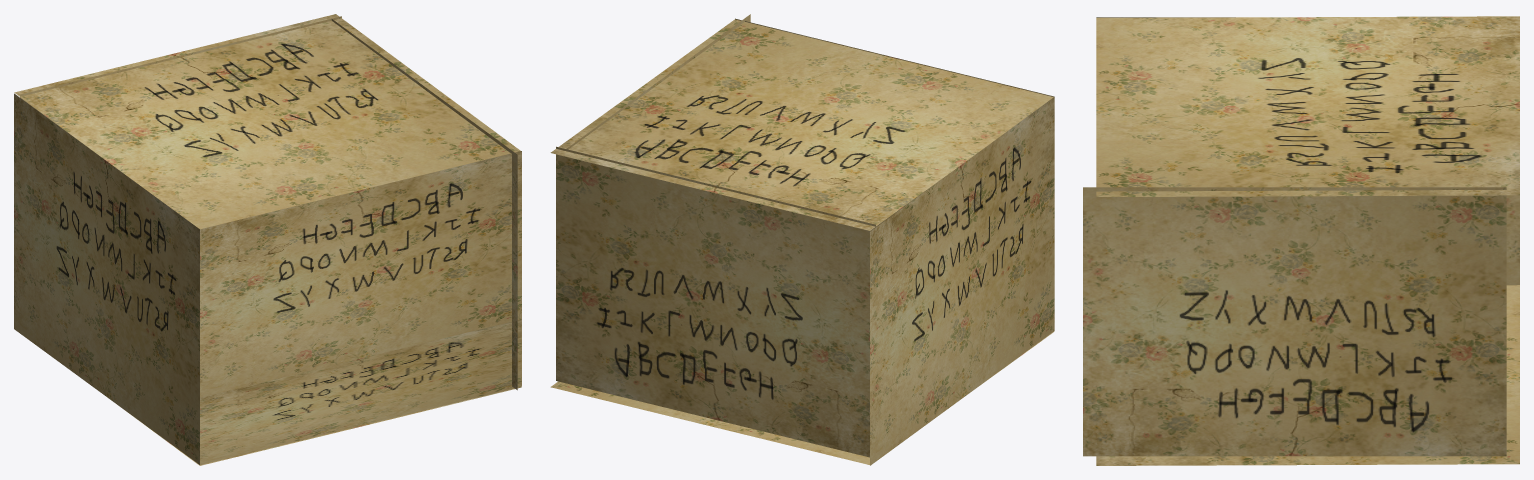
Rendered from room.obj.
The picture shows the model from 3 angles, left to right: view 1: azimuth 30°, elevation 25°; view 2: azimuth 150°, elevation 25°; view 3: azimuth 270°, elevation 25°; orthographic projection. The views are drawn at different scales.
Visible parts, largest first — view 1: Plane.007_Plane.002, Plane, Plane.006_Plane.003, Plane.001_Plane.005, Plane.005_Plane.004, Plane.002_Plane.003, Plane.003_Plane.002; view 2: Plane.002_Plane.003, Plane.007_Plane.002, Plane.006_Plane.003, Plane.003_Plane.002, Plane.005_Plane.004, Plane; view 3: Plane.005_Plane.004, Plane.007_Plane.002, Plane.003_Plane.002, Plane.006_Plane.003.
Boxes of the visible parts, x1=… form: Plane.007_Plane.002: x1=14, y1=14, x2=520, y2=229; Plane: x1=200, y1=151, x2=521, y2=397; Plane.006_Plane.003: x1=14, y1=93, x2=199, y2=464; Plane.001_Plane.005: x1=200, y1=319, x2=521, y2=464; Plane.005_Plane.004: x1=331, y1=19, x2=517, y2=390; Plane.002_Plane.003: x1=20, y1=16, x2=341, y2=149; Plane.003_Plane.002: x1=125, y1=387, x2=521, y2=465; Plane.002_Plane.003: x1=556, y1=146, x2=875, y2=457; Plane.007_Plane.002: x1=550, y1=19, x2=1053, y2=230; Plane.006_Plane.003: x1=870, y1=97, x2=1054, y2=465; Plane.003_Plane.002: x1=550, y1=331, x2=1054, y2=464; Plane.005_Plane.004: x1=566, y1=14, x2=750, y2=149; Plane: x1=735, y1=18, x2=1054, y2=221; Plane.005_Plane.004: x1=1083, y1=187, x2=1506, y2=456; Plane.007_Plane.002: x1=1096, y1=16, x2=1519, y2=196; Plane.003_Plane.002: x1=1096, y1=285, x2=1519, y2=465; Plane.006_Plane.003: x1=1096, y1=17, x2=1519, y2=285.
Size of the model in its own units: 32 by 22.74 by 33.
